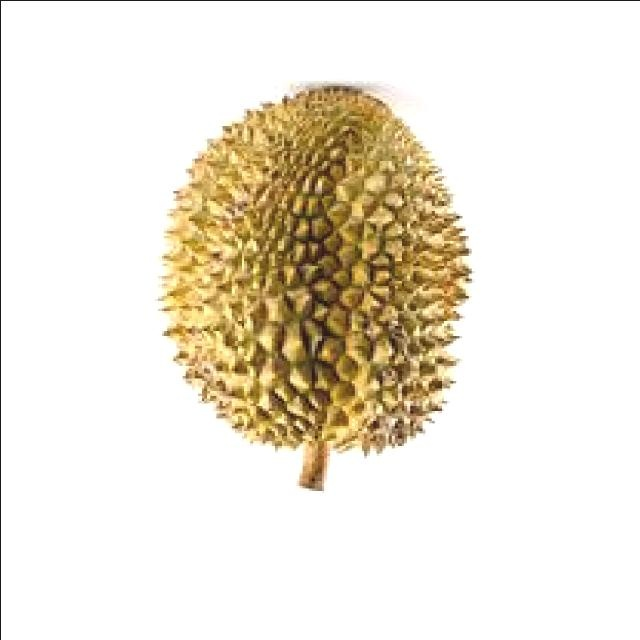agrume: (129, 65, 489, 480)
